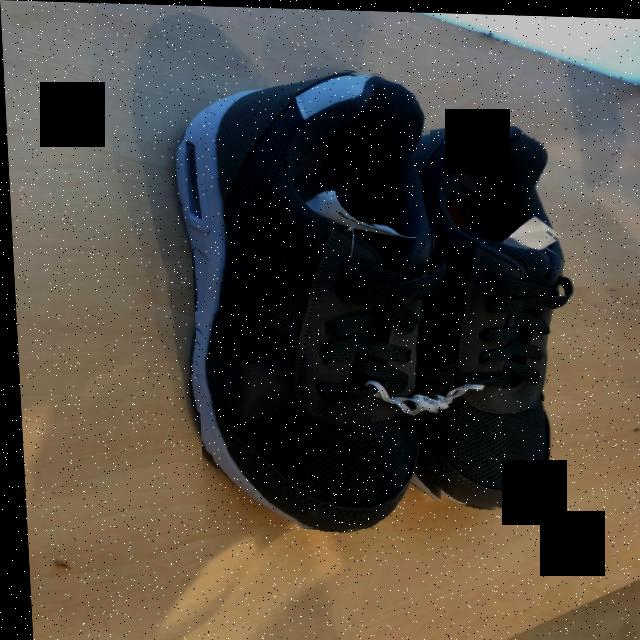shoe: (185, 70, 428, 529)
